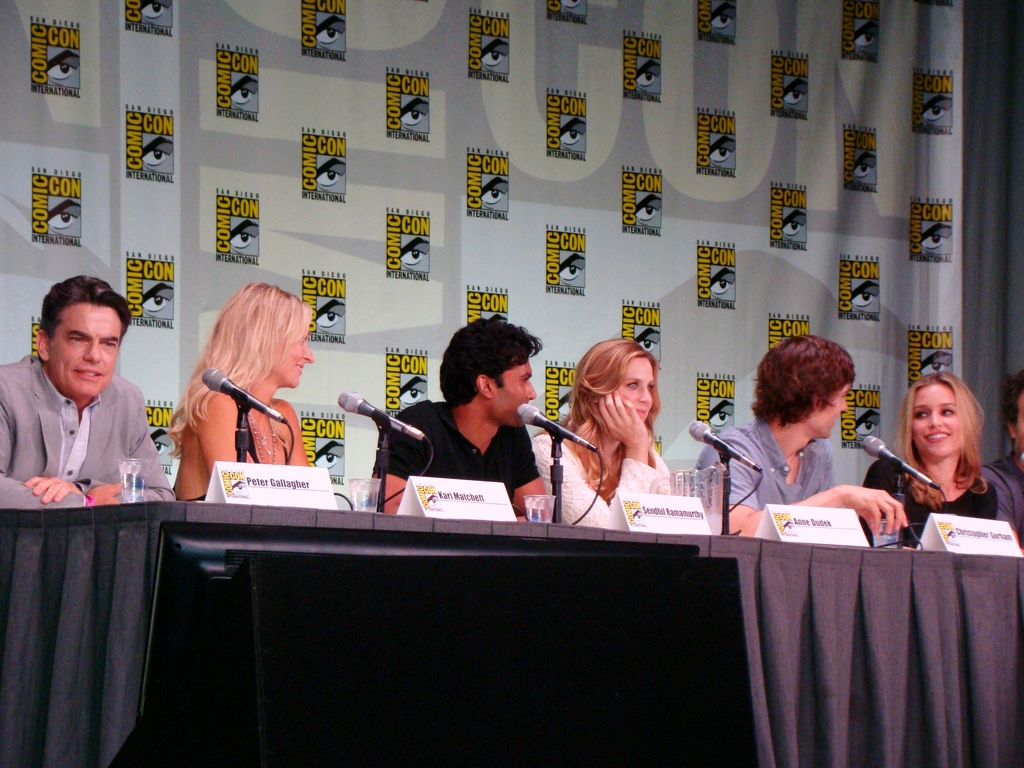Human-face: (59, 318, 118, 399), (918, 389, 966, 463), (617, 365, 659, 428), (807, 384, 851, 444), (494, 371, 534, 436), (284, 332, 317, 392)
